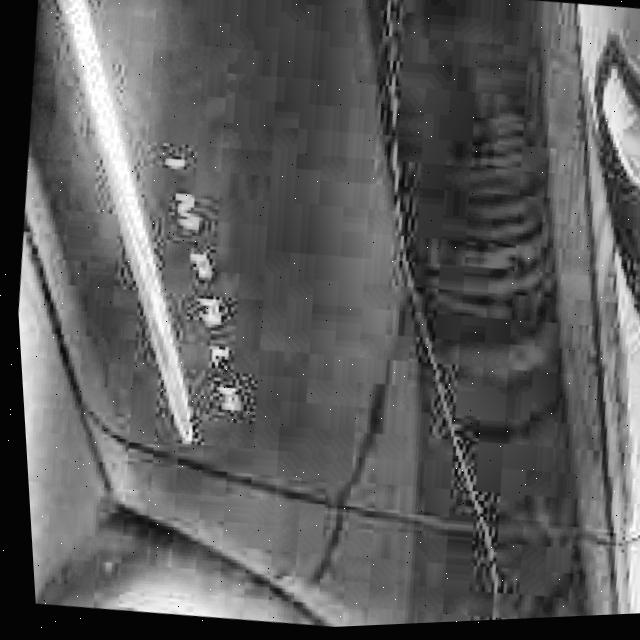door_scratch: (413, 286, 548, 622), (339, 0, 461, 263)
